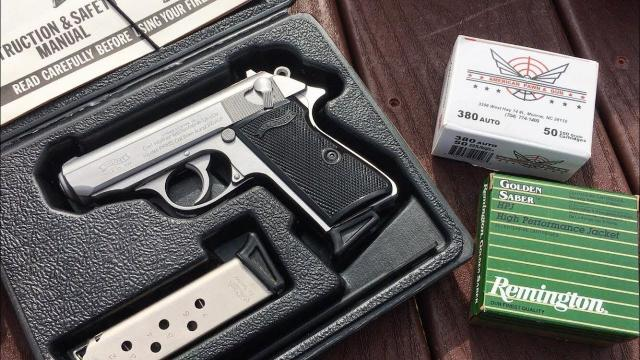handgun: (52, 62, 406, 272)
